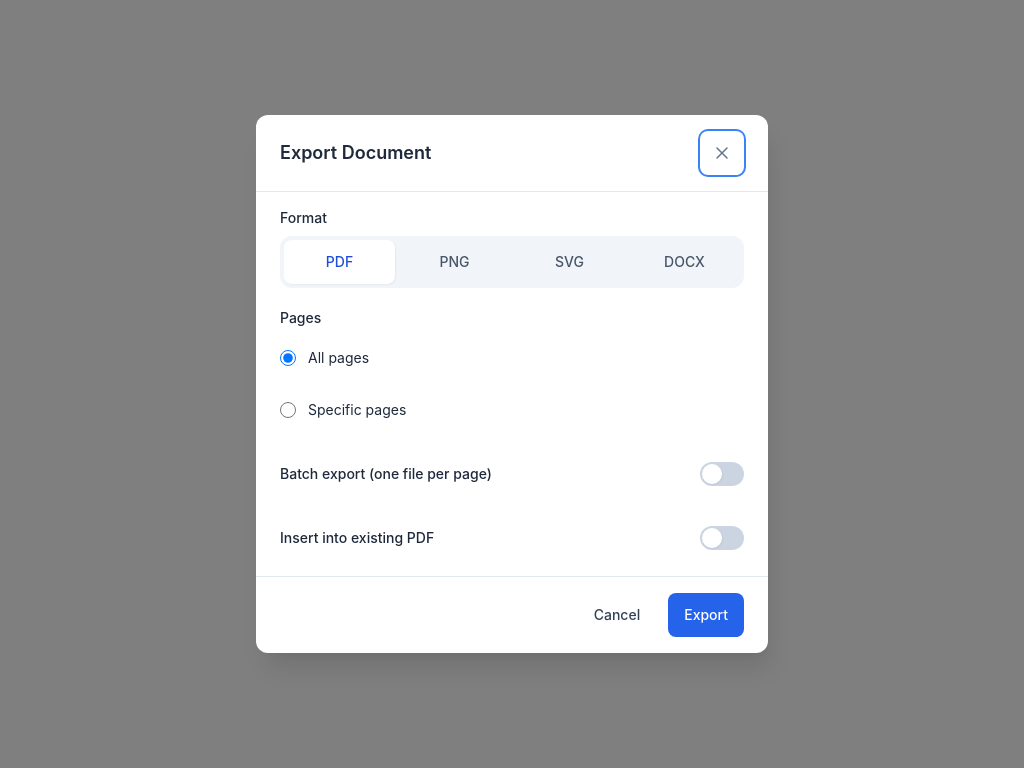
it: ExportDialog › format selection › shows DPI options when PNG is selected
This screenshot has width=1024, height=768.
Click the button "PNG" at (454, 262), box [399,240,510,284]
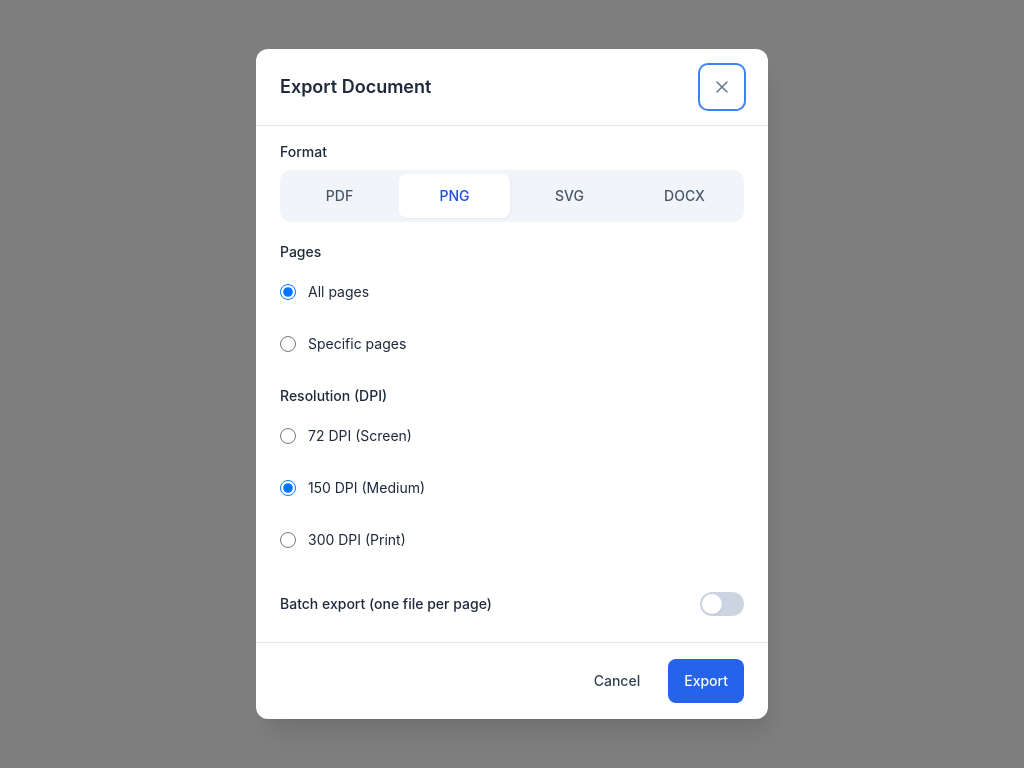
Expected: the text "72 DPI (Screen)" is shown, [308,426,412,446]
Expected: the text "150 DPI (Medium)" is shown, [308,478,425,498]
Expected: the text "300 DPI (Print)" is shown, [308,530,406,550]
